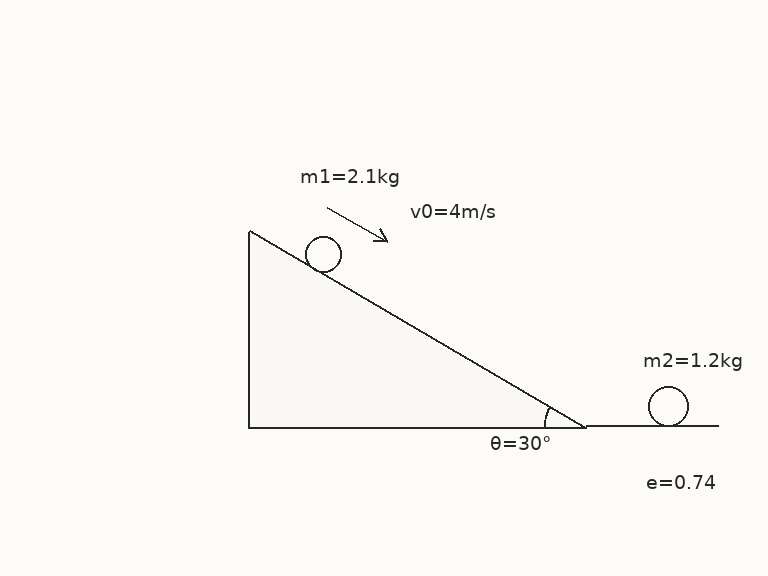ball: (646, 384, 690, 428), (303, 234, 343, 274)
ramp: (246, 230, 587, 428)
